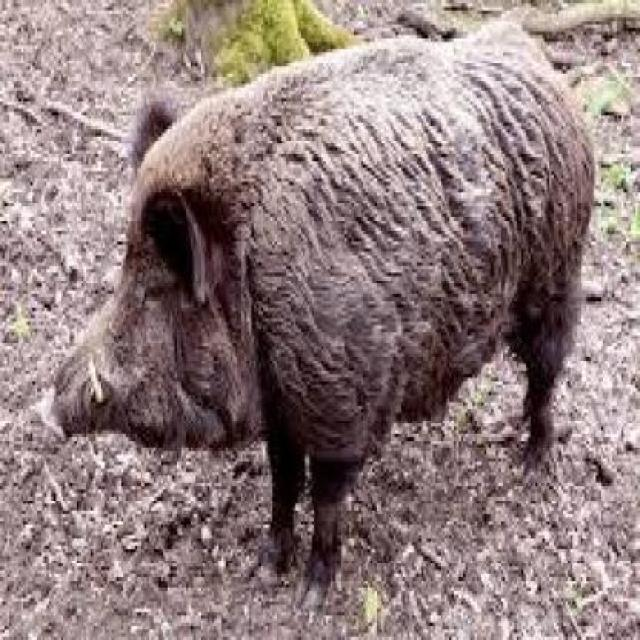wildboar: (48, 36, 600, 596)
